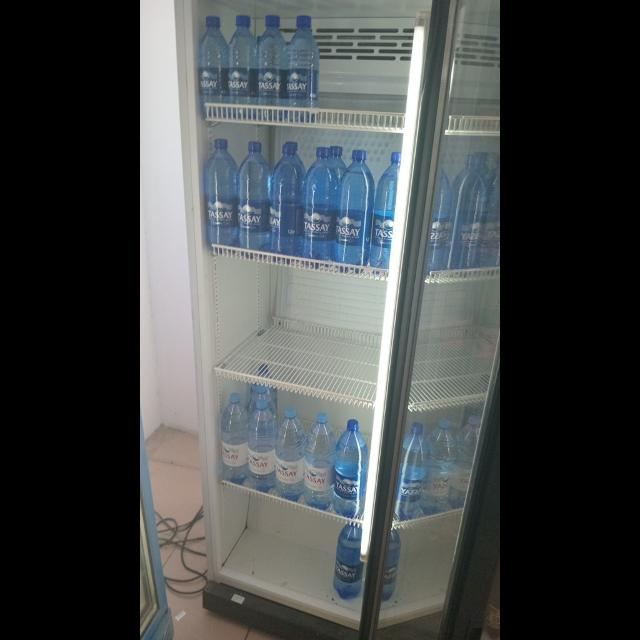Cooling-Display: (174, 1, 448, 640)
